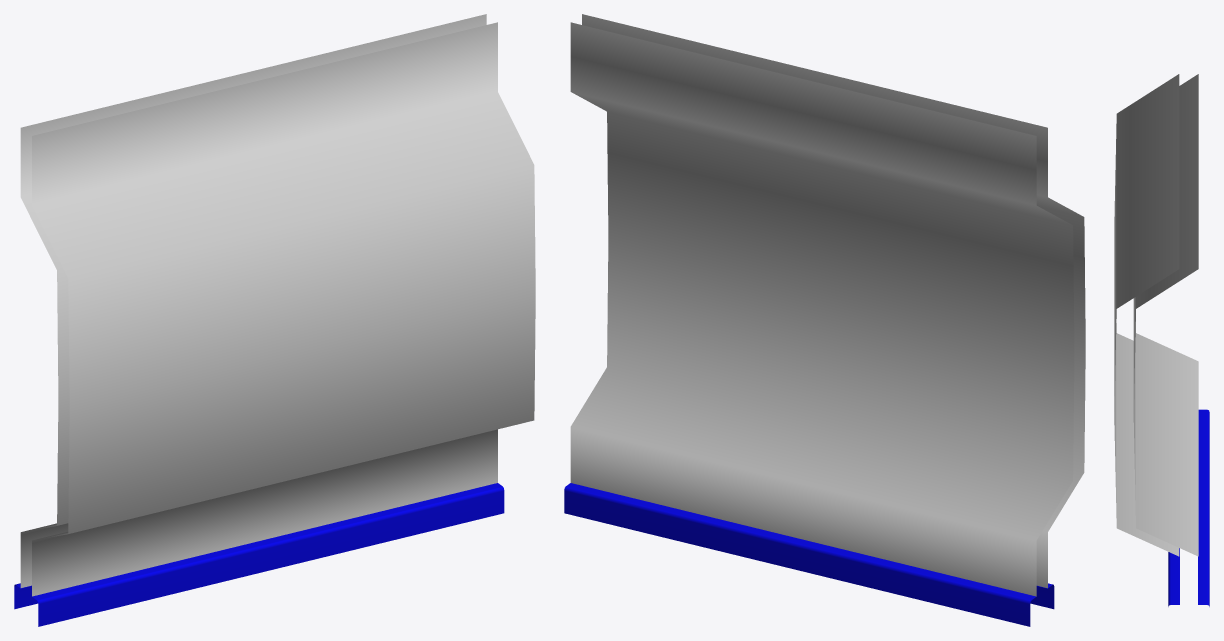
Rendered from WallBeveled.fbx.
3 renders of one model, left to right at view 1: azimuth 30°, elevation 25°; view 2: azimuth 150°, elevation 25°; view 3: azimuth 270°, elevation 25°, orthographic. The views are drawn at different scales.
Parts seen in each view (by area): view 1: Wall, Trim; view 2: Wall, Trim; view 3: Wall, Trim.
Boxes of the visible parts, box(x1,y1,x2,y2) form: Wall: box(20, 14, 535, 596); Trim: box(14, 483, 504, 626); Wall: box(570, 14, 1085, 596); Trim: box(564, 483, 1054, 626); Wall: box(1114, 74, 1198, 556); Trim: box(1168, 409, 1209, 606).
Size of the model in its own units: 12 by 11.97 by 2.47.
